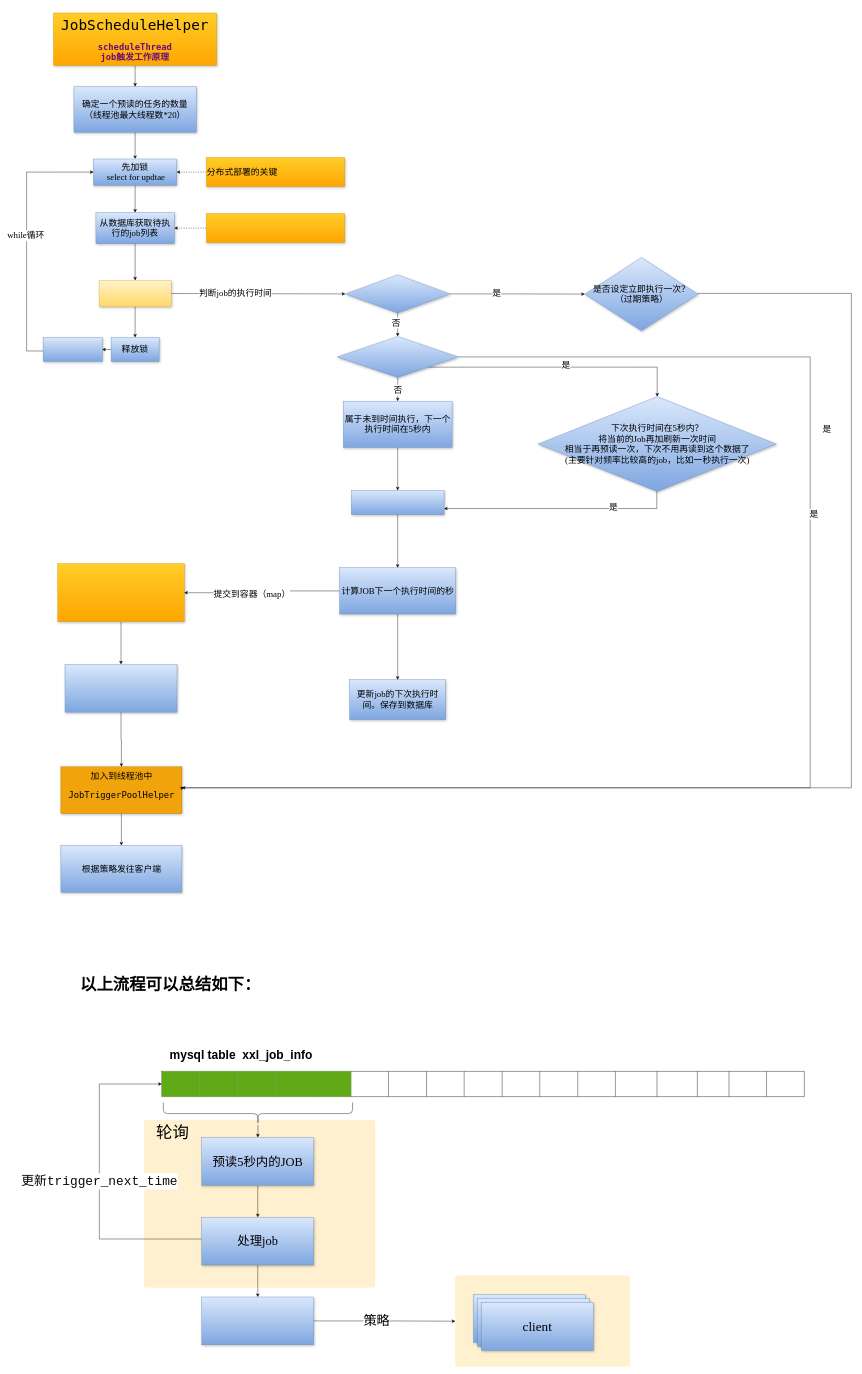
Some shapes in this 862 by 1374 pixel diagram are drawn without their labels. The centre of each missing label's shape, as x and y in pixels:
"JOB已经过期5秒以上" belongs at (x=397, y=294).
"JOB过期5秒以内" belongs at (x=398, y=357).
"使用while循环，循环的到指定触发时间。" belongs at (x=121, y=688).
"依赖 ringThread 异步处理即将执行的任务 （本质是60秒的时间轮）" belongs at (x=121, y=593).
"将该job加入到 TimeRing中" belongs at (x=397, y=502).
"循环时间<1秒，进行sleep" belongs at (x=73, y=349).
"提交到线程池处理" belongs at (x=258, y=1321).
"条件： 1、状态为1（运行中） 2、下次调度时间<当前时间+5秒" belongs at (x=275, y=228).
"遍历处理job" belongs at (x=135, y=293).
